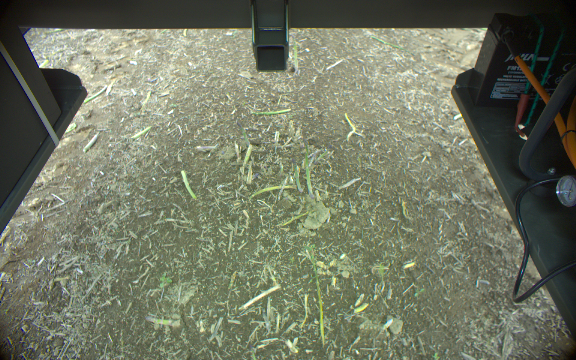aspa: (301, 243, 325, 345), (249, 180, 298, 201), (303, 137, 316, 201), (177, 170, 198, 200), (235, 124, 254, 149), (290, 34, 301, 76), (249, 106, 293, 116), (291, 158, 303, 194)
